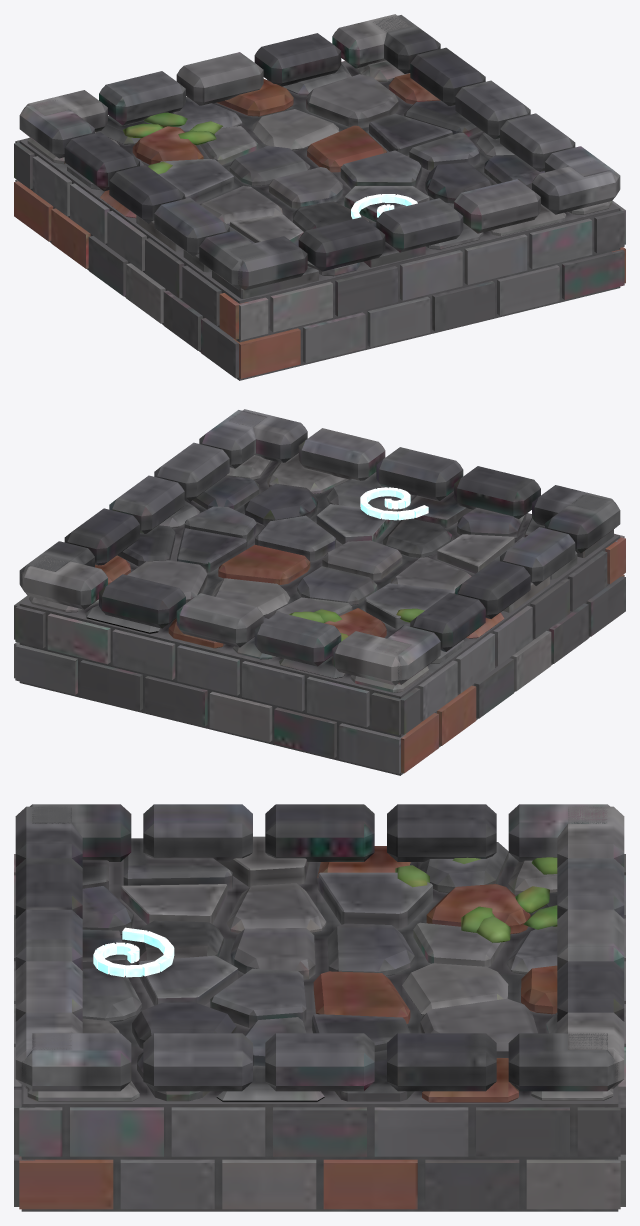
File: plate_2_stribog.glb
3 views of the same model, one above another, from view 1: azimuth 30°, elevation 25°; view 2: azimuth 150°, elevation 25°; view 3: azimuth 270°, elevation 25° (orthographic). The views are drawn at different scales.
Parts seen in each view (by area): view 1: plate_2_stribog; view 2: plate_2_stribog; view 3: plate_2_stribog.
Boxes of the visible parts, x1,y1,x2,y2 form: plate_2_stribog: (14, 14, 625, 380); plate_2_stribog: (14, 409, 625, 775); plate_2_stribog: (14, 804, 625, 1211).
Size of the model in its own units: 2.01 by 0.57 by 2.01.
1 material, 1 textured.
